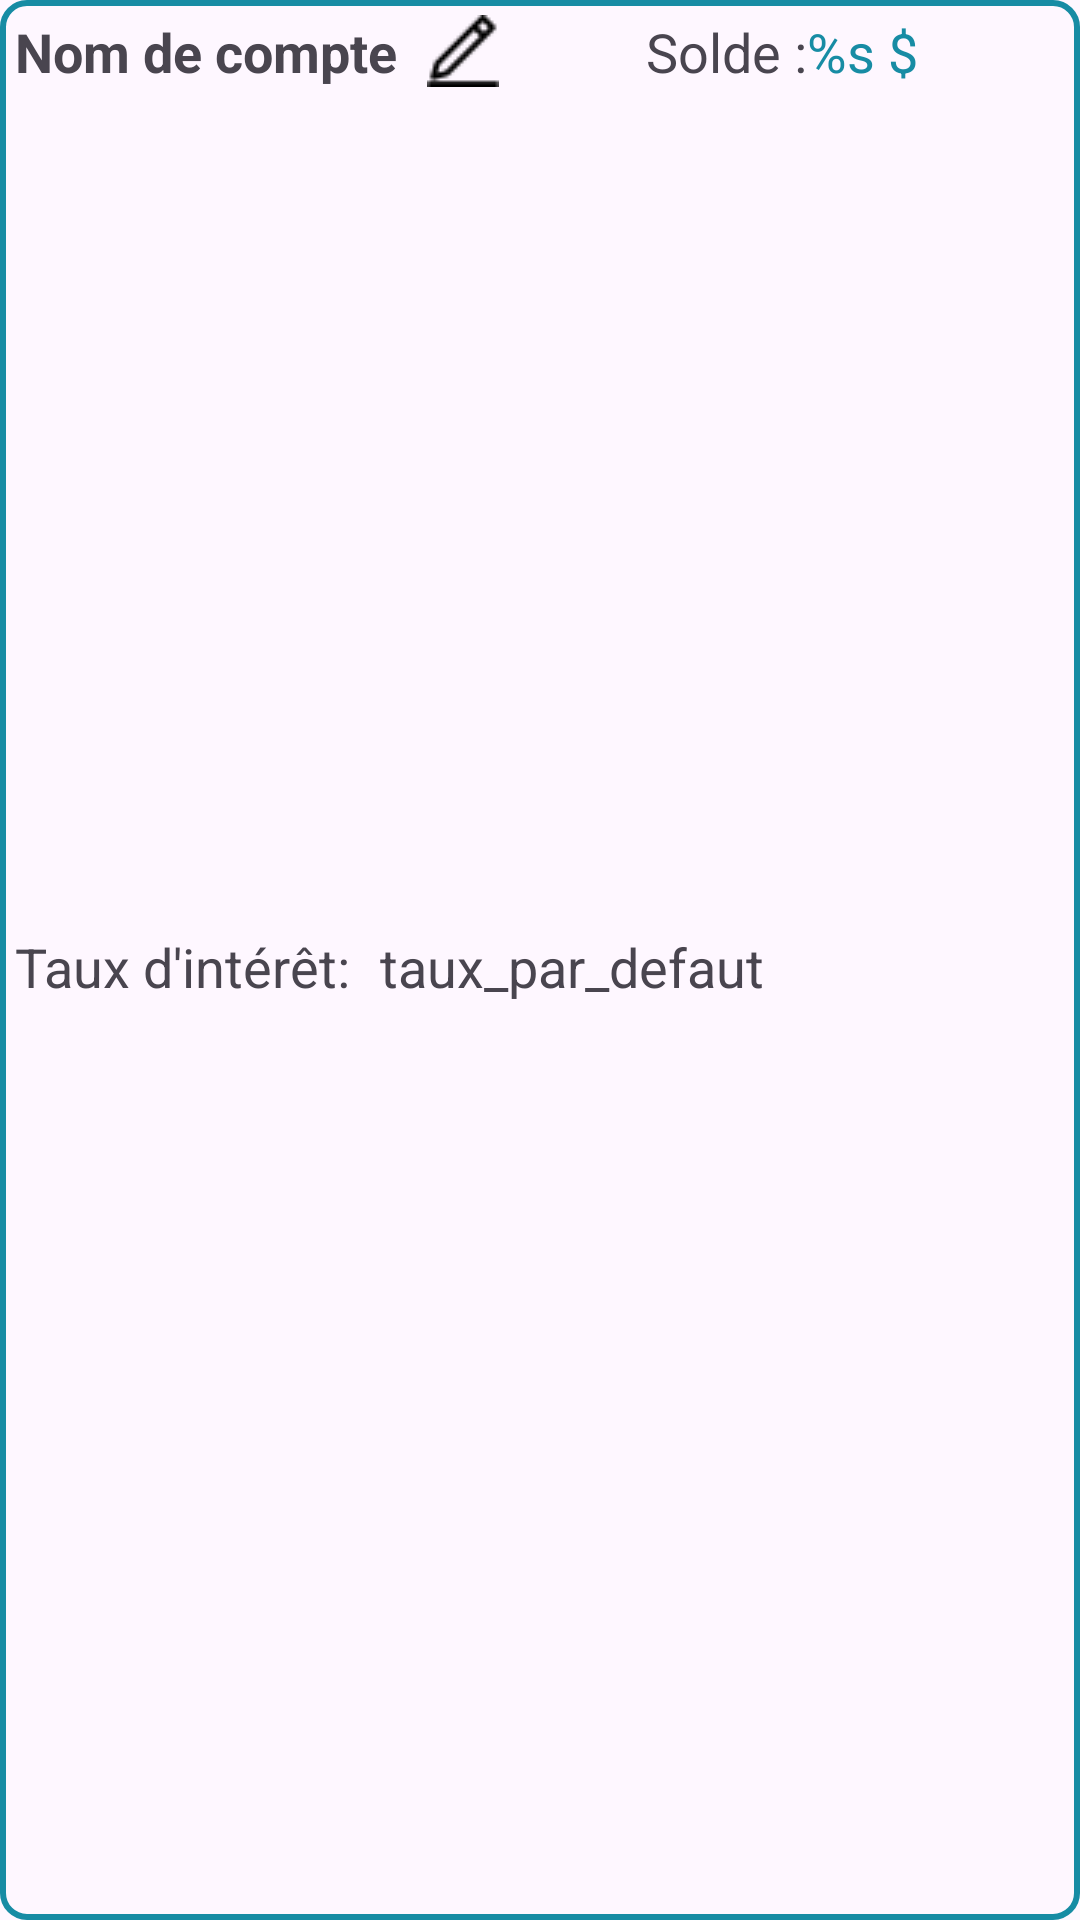

Where to tap for icons on this 1080px×1920px app screen, as (x,y):
ecrire: (463,51)
